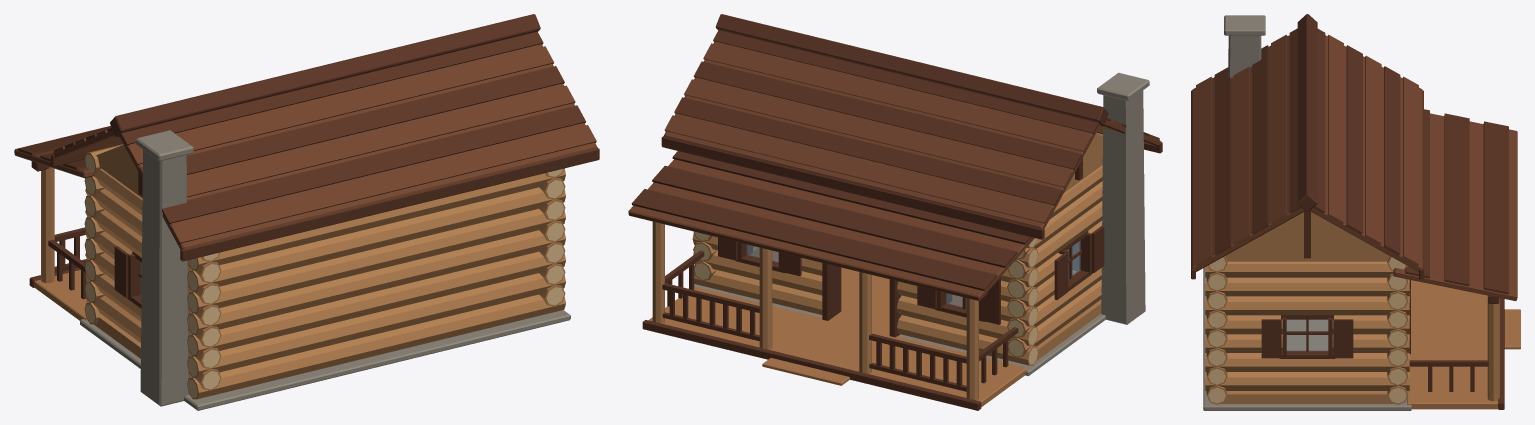
File: log_cabin.glb
3 renders of one model, left to right at view 1: azimuth 30°, elevation 25°; view 2: azimuth 150°, elevation 25°; view 3: azimuth 270°, elevation 25°, orthographic. The views are drawn at different scales.
Visible parts, largest first — view 1: Wood__B07C4E, WoodPlanks__583222, WoodPlanks__70422C, Slate__8C8478, Wood__DEBC8C, WoodPlanks__AA7448; view 2: WoodPlanks__583222, WoodPlanks__70422C, Wood__B07C4E, WoodPlanks__AA7448, Slate__8C8478, Wood__DEBC8C, Glass__AAD2EB; view 3: WoodPlanks__583222, WoodPlanks__70422C, Wood__B07C4E, WoodPlanks__AA7448, Slate__8C8478, Wood__DEBC8C, Glass__AAD2EB.
Part boxes in pixels (bbox=[...]): Wood__B07C4E: bbox=[41, 144, 565, 399]; WoodPlanks__583222: bbox=[18, 14, 599, 308]; WoodPlanks__70422C: bbox=[14, 44, 597, 249]; Slate__8C8478: bbox=[80, 130, 570, 410]; Wood__DEBC8C: bbox=[85, 154, 564, 397]; WoodPlanks__AA7448: bbox=[34, 270, 87, 320]; WoodPlanks__583222: bbox=[631, 14, 1162, 410]; WoodPlanks__70422C: bbox=[628, 41, 1160, 300]; Wood__B07C4E: bbox=[652, 132, 1102, 400]; WoodPlanks__AA7448: bbox=[648, 251, 1026, 406]; Slate__8C8478: bbox=[694, 72, 1149, 376]; Wood__DEBC8C: bbox=[694, 232, 1037, 364]; Glass__AAD2EB: bbox=[747, 241, 1080, 308]; WoodPlanks__583222: bbox=[1191, 14, 1508, 409]; WoodPlanks__70422C: bbox=[1192, 34, 1517, 300]; Wood__B07C4E: bbox=[1205, 212, 1499, 404]; WoodPlanks__AA7448: bbox=[1287, 280, 1520, 409]; Slate__8C8478: bbox=[1203, 15, 1411, 410]; Wood__DEBC8C: bbox=[1208, 257, 1406, 403]; Glass__AAD2EB: bbox=[1286, 319, 1328, 350].
Size of the model in its own units: 31.05 by 18.02 by 23.73.
